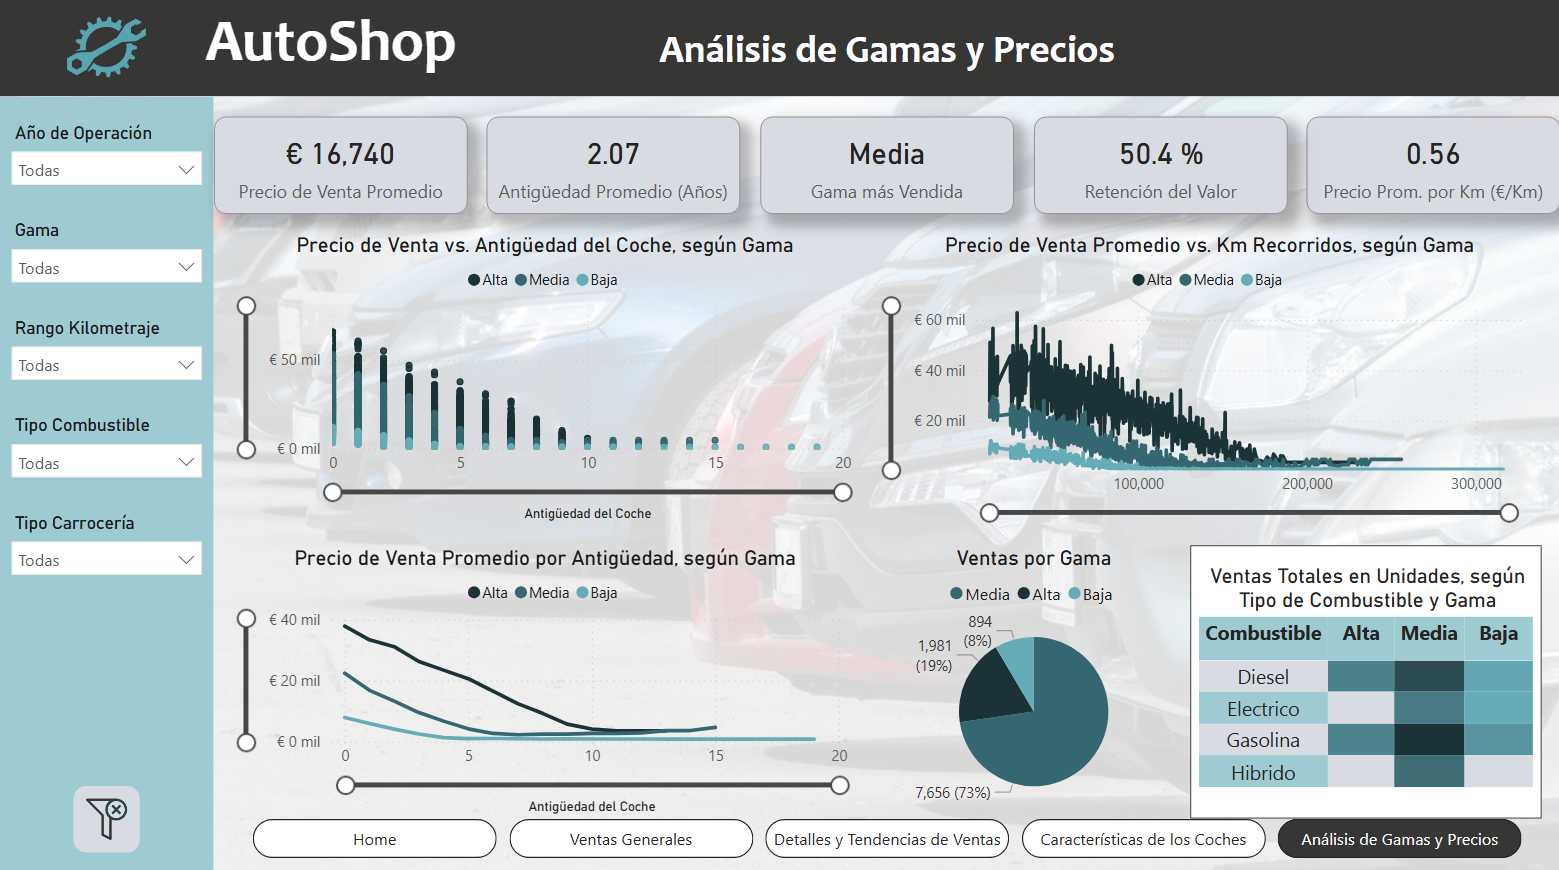

This screenshot's page, from the dashboard's own definition file:
{"tool":"powerbi","page":{"name":"Análisis de Gamas y Precios","canvas":[1280,720],"ordinal":4},"visuals":[{"type":"shape","box":[0,80,176,640],"z":0},{"type":"shape","box":[0,0,1280,80],"z":2000},{"type":"slicer","fields":{"Values":["Calendario.Año"]},"box":[0,96,176,80],"z":3000},{"type":"textbox","box":[128,0,288,80],"z":4000},{"type":"card","fields":{"Values":["_TMedidas_Ventas.PrecioVentaPromedio"]},"box":[176,96,208,80],"z":5000},{"type":"pageNavigator","box":[208,672,1040,32],"z":6000},{"type":"textbox","box":[496,16,464,64],"z":7000},{"type":"pieChart","title":"Ventas por Gama","fields":{"Category":["DIM_modelos.gama_modelo"],"Y":["_TMedidas_Ventas.VentasTotalesUnid"]},"box":[720,448,256,224],"z":8000},{"type":"slicer","fields":{"Values":["DIM_modelos.gama_modelo"]},"box":[0,176,176,80],"z":9000},{"type":"slicer","fields":{"Values":["DIM_modelos.tipo_combustible"]},"box":[0,336,176,80],"z":10000},{"type":"card","fields":{"Values":["_TMedidas_Ventas.AntigüedadPromedio"]},"box":[400,96,208,80],"z":11000},{"type":"card","fields":{"Values":["_TMedidas_Ventas.GamaMasVendida"]},"box":[624,96,208,80],"z":12000},{"type":"card","fields":{"Values":["_TMedidas_Ventas.PrecioPorKM"]},"box":[1072,96,208,80],"z":13000},{"type":"card","fields":{"Values":["_TMedidas_Ventas.ValorResidualProm"]},"box":[848,96,208,80],"z":14000},{"type":"slicer","fields":{"Values":["DIM_modelos.tipo_carroceria"]},"box":[0,416,176,80],"z":15000},{"type":"scatterChart","title":"Precio de Venta vs. Antigüedad del Coche, según Gama","fields":{"Y":["FACT_ventas.precio_actual"],"X":["FACT_ventas.antiguedad_coche"],"Series":["DIM_modelos.gama_modelo"]},"box":[192,192,512,240],"z":16000},{"type":"lineChart","title":"Precio de Venta Promedio por Antigüedad, según Gama","fields":{"Y":["_TMedidas_Ventas.PrecioPromedioPorAntiguedad"],"Category":["FACT_ventas.antiguedad_coche"],"Series":["DIM_modelos.gama_modelo"]},"box":[192,448,512,224],"z":17000},{"type":"pivotTable","title":"Ventas Totales en Unidades, según Tipo de Combustible y Gama","fields":{"Columns":["DIM_modelos.gama_modelo"],"Values":["_TMedidas_Ventas.VentasTotalesUnid"],"Rows":["DIM_modelos.tipo_combustible"]},"box":[976,448,288,224],"z":18000},{"type":"lineChart","title":"Precio de Venta Promedio vs. Km Recorridos, según Gama","fields":{"Series":["DIM_modelos.gama_modelo"],"Y":["_TMedidas_Ventas.PrecioVentaPromedio"],"Category":["FACT_ventas.km_recorridos"]},"box":[720,192,544,240],"z":19000},{"type":"slicer","fields":{"Values":["FACT_ventas.km_recorridos_rango"]},"box":[0,256,176,80],"z":20000},{"type":"image","box":[48,0,80,80],"z":21000},{"type":"image","box":[48,640,80,64],"z":22000}]}

Visuals, with their boxes in screenshot pixels (x1, y1, x2, y2), scaled from the page's 1280x720 canvas onto the 1559x870 screenshot:
shape: pyautogui.locateOnScreen(0, 97, 214, 869)
shape: pyautogui.locateOnScreen(0, 0, 1558, 97)
slicer - Calendario.Año: pyautogui.locateOnScreen(0, 116, 214, 213)
textbox: pyautogui.locateOnScreen(156, 0, 507, 97)
card - _TMedidas_Ventas.PrecioVentaPromedio: pyautogui.locateOnScreen(214, 116, 468, 213)
pageNavigator: pyautogui.locateOnScreen(253, 812, 1520, 851)
textbox: pyautogui.locateOnScreen(604, 19, 1169, 97)
"Ventas por Gama" pieChart: pyautogui.locateOnScreen(877, 541, 1189, 812)
slicer - DIM_modelos.gama_modelo: pyautogui.locateOnScreen(0, 213, 214, 309)
slicer - DIM_modelos.tipo_combustible: pyautogui.locateOnScreen(0, 406, 214, 503)
card - _TMedidas_Ventas.AntigüedadPromedio: pyautogui.locateOnScreen(487, 116, 741, 213)
card - _TMedidas_Ventas.GamaMasVendida: pyautogui.locateOnScreen(760, 116, 1013, 213)
card - _TMedidas_Ventas.PrecioPorKM: pyautogui.locateOnScreen(1306, 116, 1558, 213)
card - _TMedidas_Ventas.ValorResidualProm: pyautogui.locateOnScreen(1033, 116, 1286, 213)
slicer - DIM_modelos.tipo_carroceria: pyautogui.locateOnScreen(0, 503, 214, 599)
"Precio de Venta vs. Antigüedad del Coche, según Gama" scatterChart: pyautogui.locateOnScreen(234, 232, 857, 522)
"Precio de Venta Promedio por Antigüedad, según Gama" lineChart: pyautogui.locateOnScreen(234, 541, 857, 812)
"Ventas Totales en Unidades, según Tipo de Combustible y Gama" pivotTable: pyautogui.locateOnScreen(1189, 541, 1540, 812)
"Precio de Venta Promedio vs. Km Recorridos, según Gama" lineChart: pyautogui.locateOnScreen(877, 232, 1540, 522)
slicer - FACT_ventas.km_recorridos_rango: pyautogui.locateOnScreen(0, 309, 214, 406)
image: pyautogui.locateOnScreen(58, 0, 156, 97)
image: pyautogui.locateOnScreen(58, 773, 156, 851)
